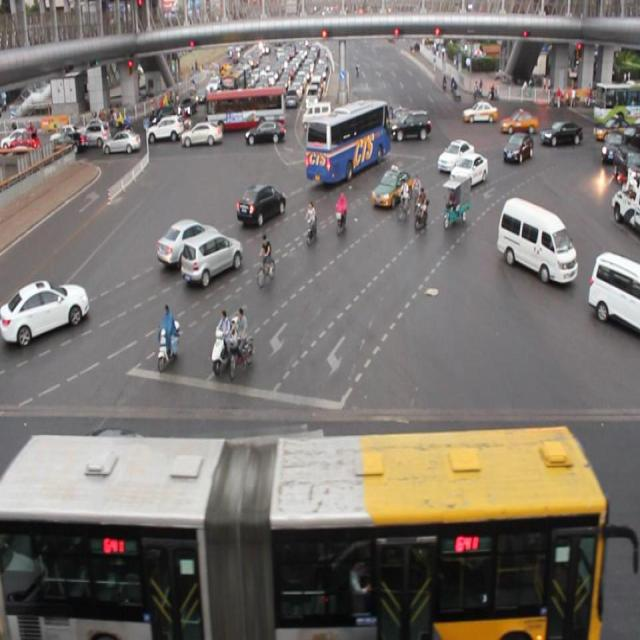car: (55, 428, 182, 525), (1, 274, 90, 345), (183, 233, 243, 285), (158, 218, 218, 262), (236, 182, 285, 222), (371, 164, 412, 209), (449, 152, 486, 184), (181, 123, 223, 147), (437, 137, 471, 166), (502, 129, 531, 160), (542, 120, 579, 144)
truck: (496, 193, 577, 285), (585, 247, 640, 335)
van: (0, 431, 602, 640), (306, 98, 390, 176)
